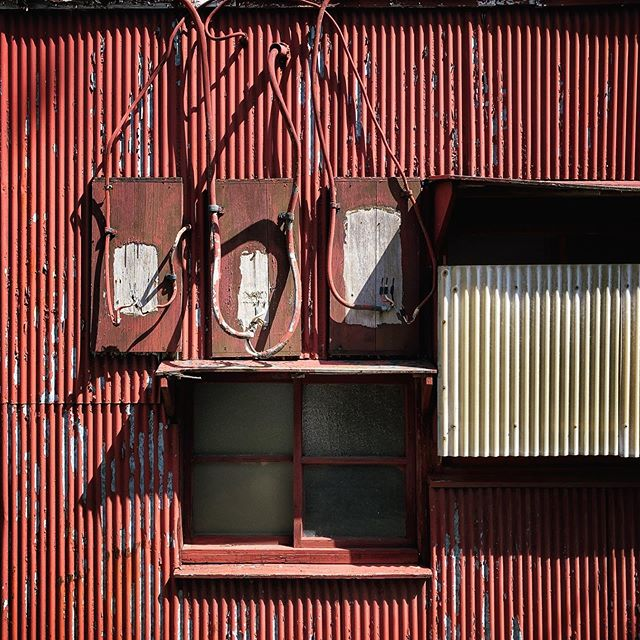window: (187, 375, 420, 557)
